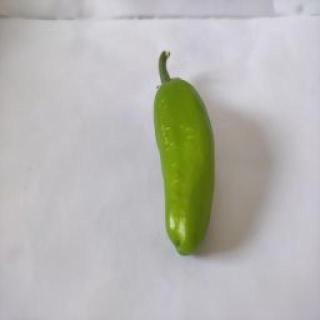Cabai Hijau: (150, 46, 223, 258)
